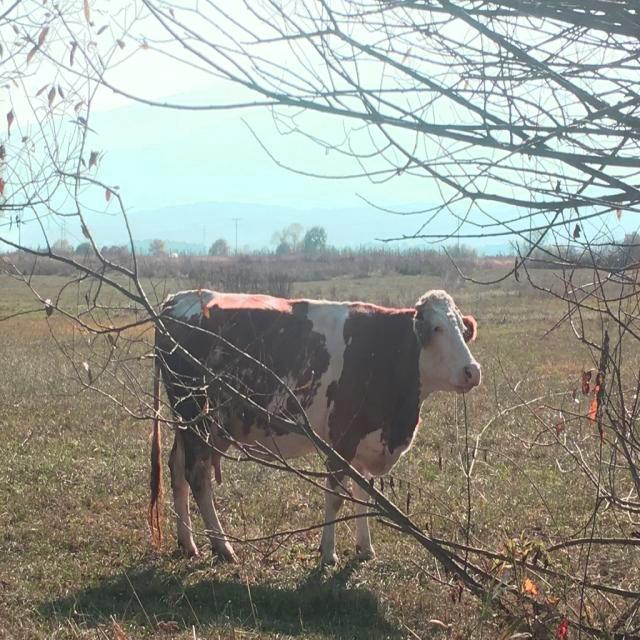cow: (150, 289, 480, 564)
